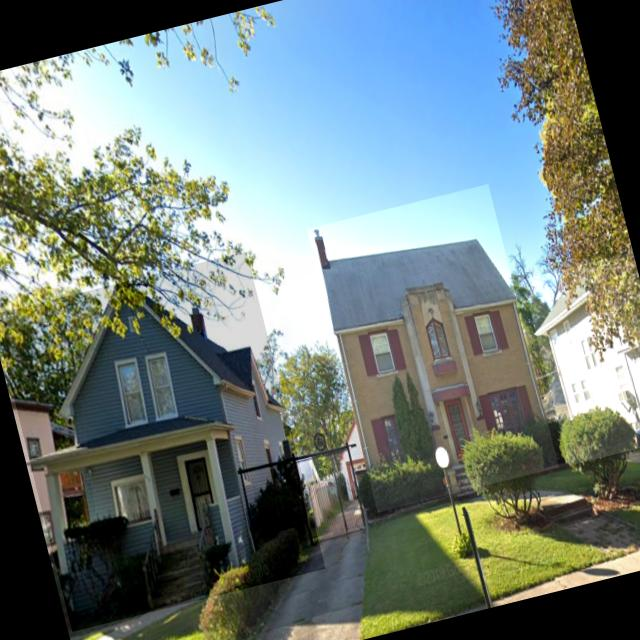House: (0, 250, 325, 631), (306, 184, 558, 512), (522, 251, 640, 465)
